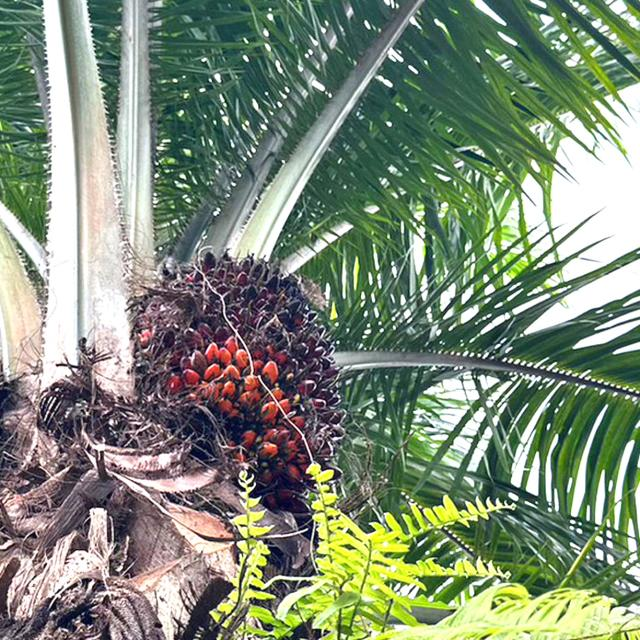ripe: (139, 246, 350, 486)
